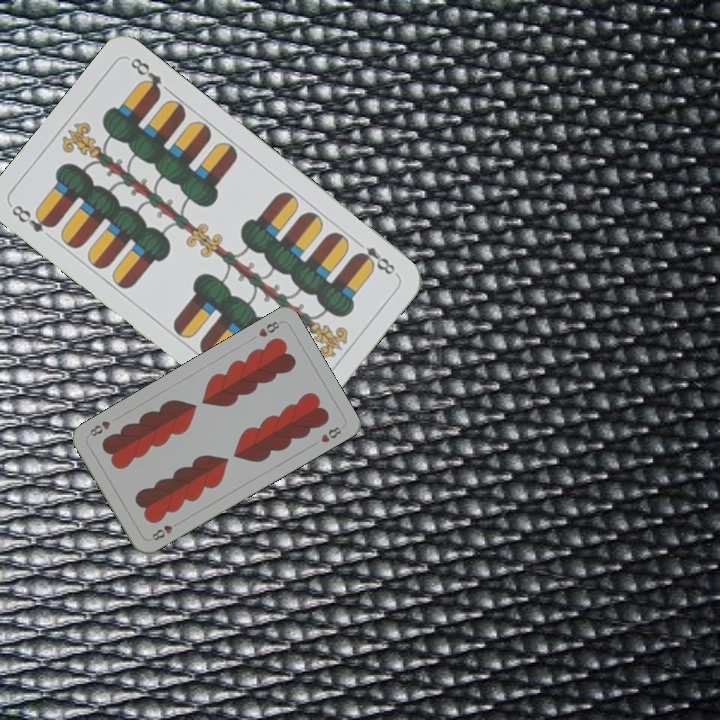E8: (351, 235, 398, 278), (7, 200, 58, 235)
H8: (254, 317, 284, 340), (148, 521, 175, 543)
